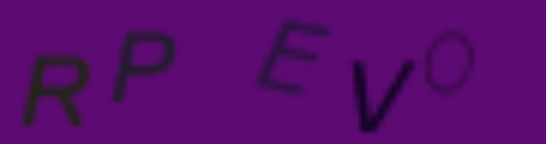E: (252, 18, 339, 97)
O: (425, 28, 477, 100)
P: (110, 26, 180, 105)
R: (17, 51, 93, 131)
V: (351, 55, 418, 135)
